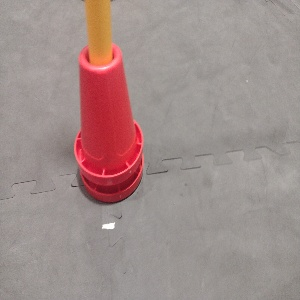Red_2: (72, 41, 144, 202)
